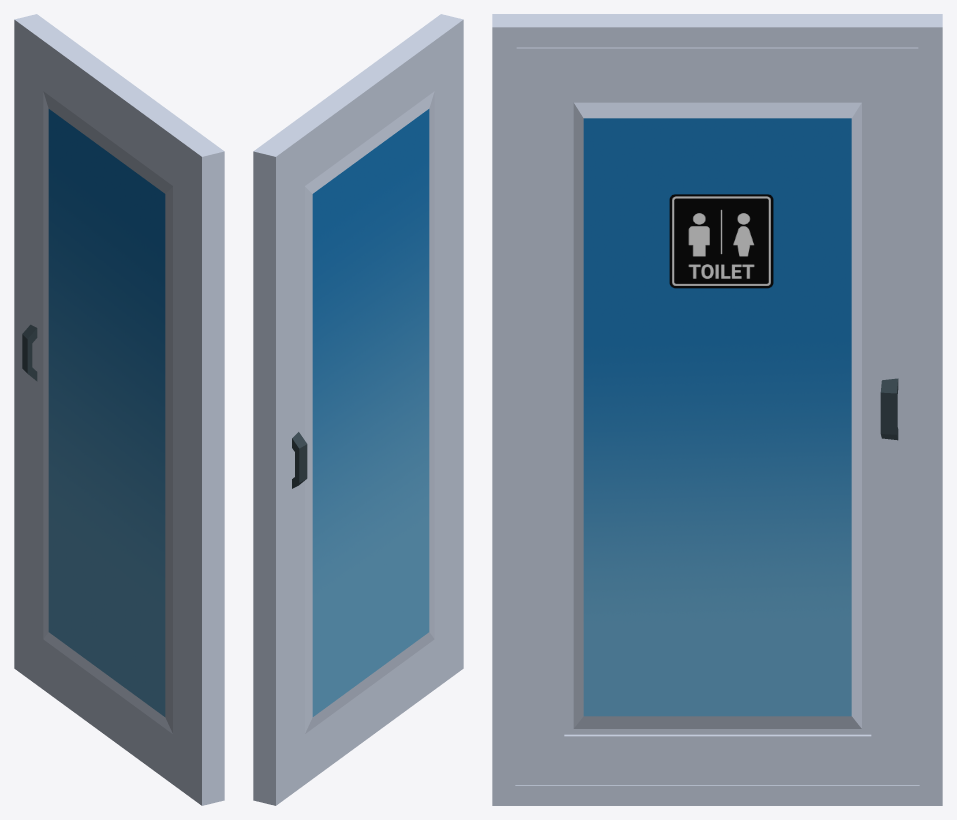
The model's file is Bathroom Door.fbx.
3 views of the same model, side by side, from view 1: azimuth 30°, elevation 25°; view 2: azimuth 150°, elevation 25°; view 3: azimuth 270°, elevation 25° (orthographic). The views are drawn at different scales.
Parts seen in each view (by area): view 1: Bathroom_Door; view 2: Bathroom_Door; view 3: Bathroom_Door.
Boxes of the visible parts, bbox=[...] form: Bathroom_Door: bbox=[14, 14, 224, 805]; Bathroom_Door: bbox=[253, 14, 463, 805]; Bathroom_Door: bbox=[492, 14, 942, 805].
Bounding box in the file's own units: 31.45 × 489 × 257.
